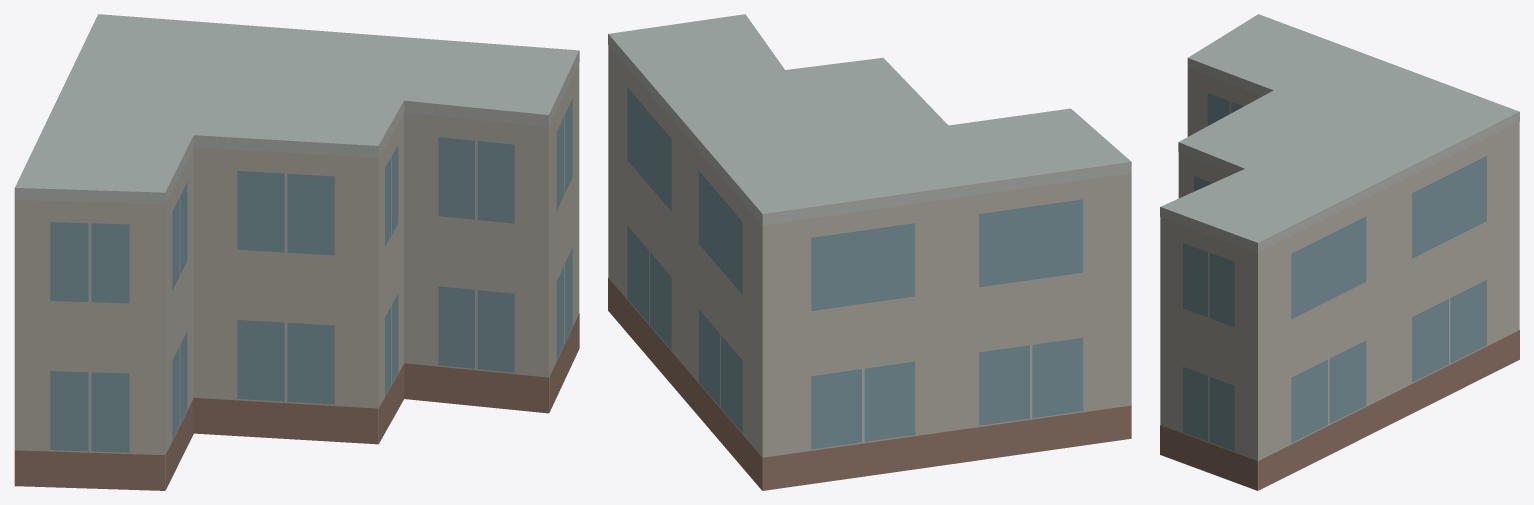
File: survey-upis-32753751.glb
3 renders of one model, left to right at view 1: azimuth 30°, elevation 25°; view 2: azimuth 150°, elevation 25°; view 3: azimuth 270°, elevation 25°, orthographic. The views are drawn at different scales.
Visible parts, largest first — view 1: survey-upis-32753751.tmp; view 2: survey-upis-32753751.tmp; view 3: survey-upis-32753751.tmp.
Boxes of the visible parts, x1,y1,x2,y2 form: survey-upis-32753751.tmp: (14,14,579,490); survey-upis-32753751.tmp: (608,14,1131,490); survey-upis-32753751.tmp: (1160,14,1519,490).
Bounding box in the file's own units: 12.09 × 6.1 × 8.02.
